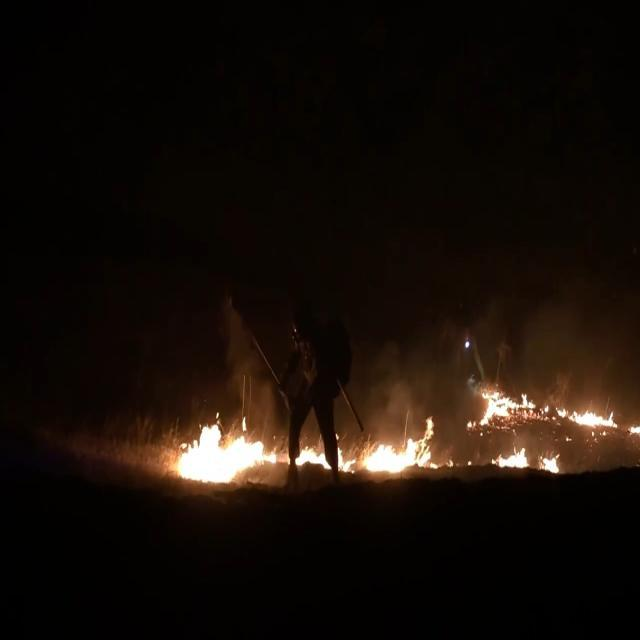Fire: (164, 383, 640, 484)
